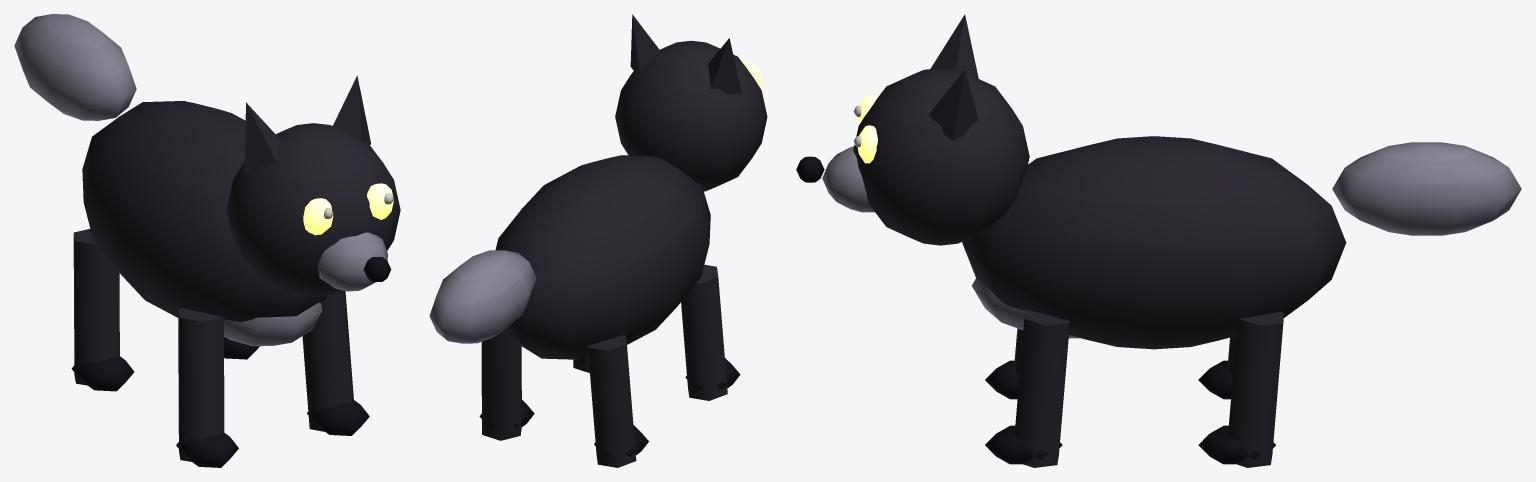
File: monster_cave_fox.glb
3 renders of one model, left to right at view 1: azimuth 30°, elevation 25°; view 2: azimuth 150°, elevation 25°; view 3: azimuth 270°, elevation 25°, orthographic. The views are drawn at different scales.
Parts seen in each view (by area): view 1: body_t0_palette, legl_t0_palette, tail_t0_palette, legr_t0_palette, body_t0_glow_gold; view 2: body_t0_palette, legl_t0_palette, tail_t0_palette, legr_t0_palette; view 3: body_t0_palette, legr_t0_palette, tail_t0_palette, legl_t0_palette, body_t0_glow_gold.
Part boxes in pixels (x1,y1,x2,y2): body_t0_palette: (82,76,400,346); legl_t0_palette: (71,229,238,467); tail_t0_palette: (14,14,136,120); legr_t0_palette: (224,290,369,435); body_t0_glow_gold: (303,183,393,235); body_t0_palette: (495,14,767,359); legl_t0_palette: (588,264,740,467); tail_t0_palette: (429,250,536,343); legr_t0_palette: (479,331,589,440); body_t0_palette: (796,14,1346,349); legr_t0_palette: (985,309,1284,467); tail_t0_palette: (1332,142,1521,235); legl_t0_palette: (985,328,1236,399); body_t0_glow_gold: (857,95,877,163).
Bounding box in the file's own units: 0.18 × 0.3603 × 0.612.
